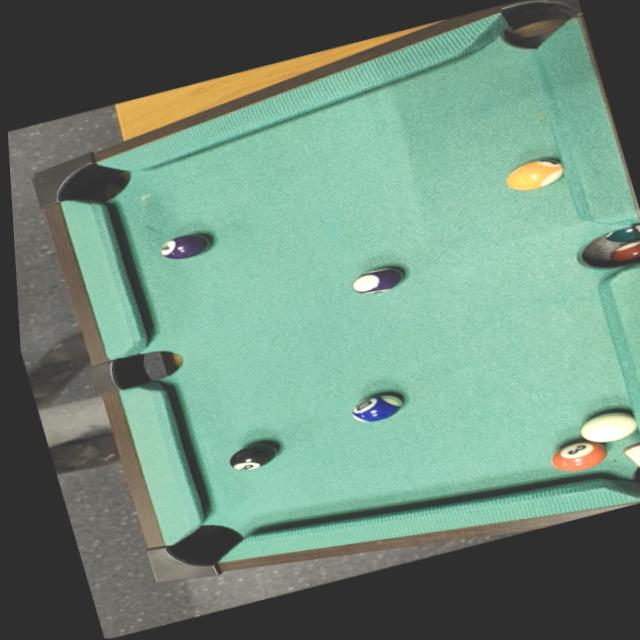cue ball: (570, 403, 640, 451)
other: (541, 432, 613, 479), (500, 151, 569, 196), (343, 387, 412, 427), (346, 260, 407, 301), (222, 436, 284, 475), (151, 228, 215, 265)
